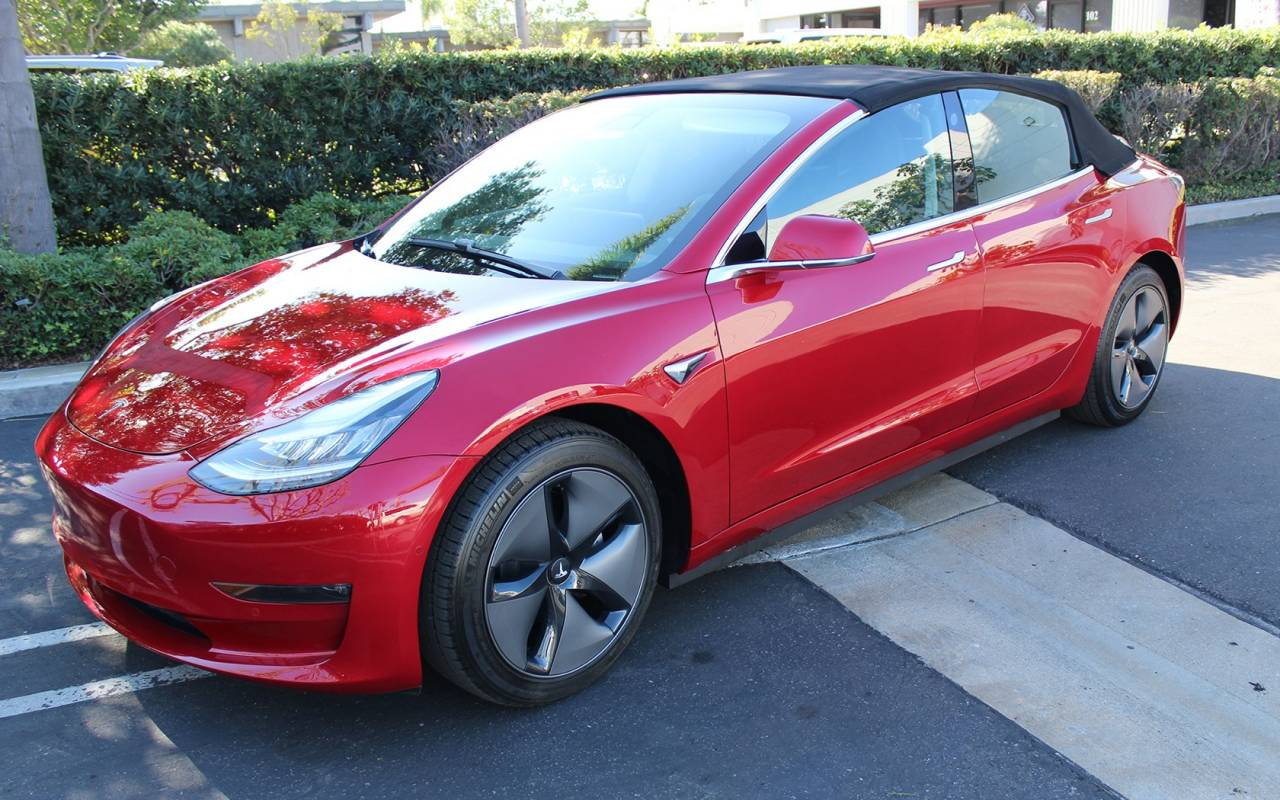car: (33, 68, 1186, 711)
